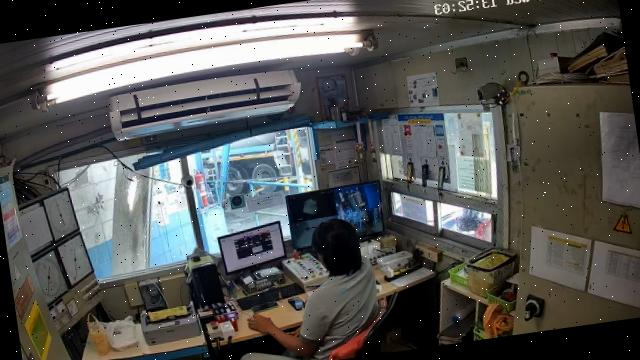Head: (312, 220, 362, 277)
People: (248, 220, 377, 359)
Phone: (252, 302, 277, 313), (289, 297, 304, 310)
